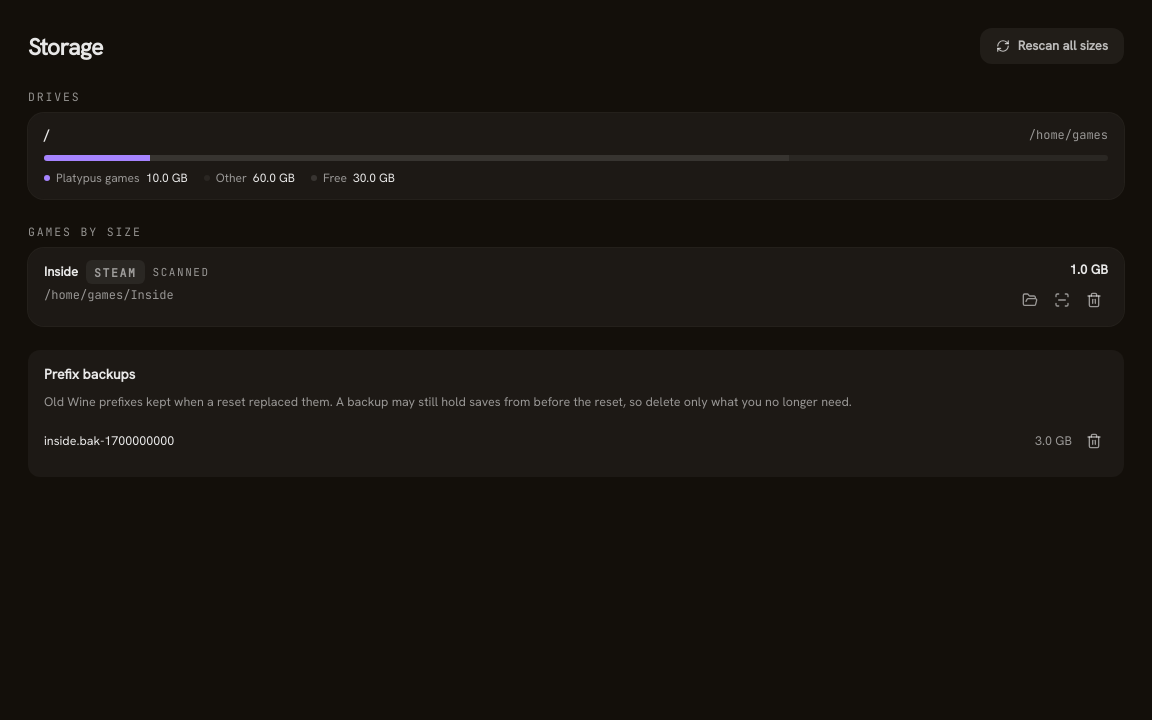
it: prefix backups in the classic Storage page › asks before deleting one, naming it and its size, and says a backup can hold saves
Expected: the heading "Prefix backups" is shown, [44,364,135,382]
Expected: the text "inside.bak-1700000000" is shown, [44,432,174,449]
# The trash only arms the confirm: nothing is deleted yet.
Step 1. Click the button named "Delete inside.bak-1700000000" → (1094, 441), box [1080,427,1108,455]
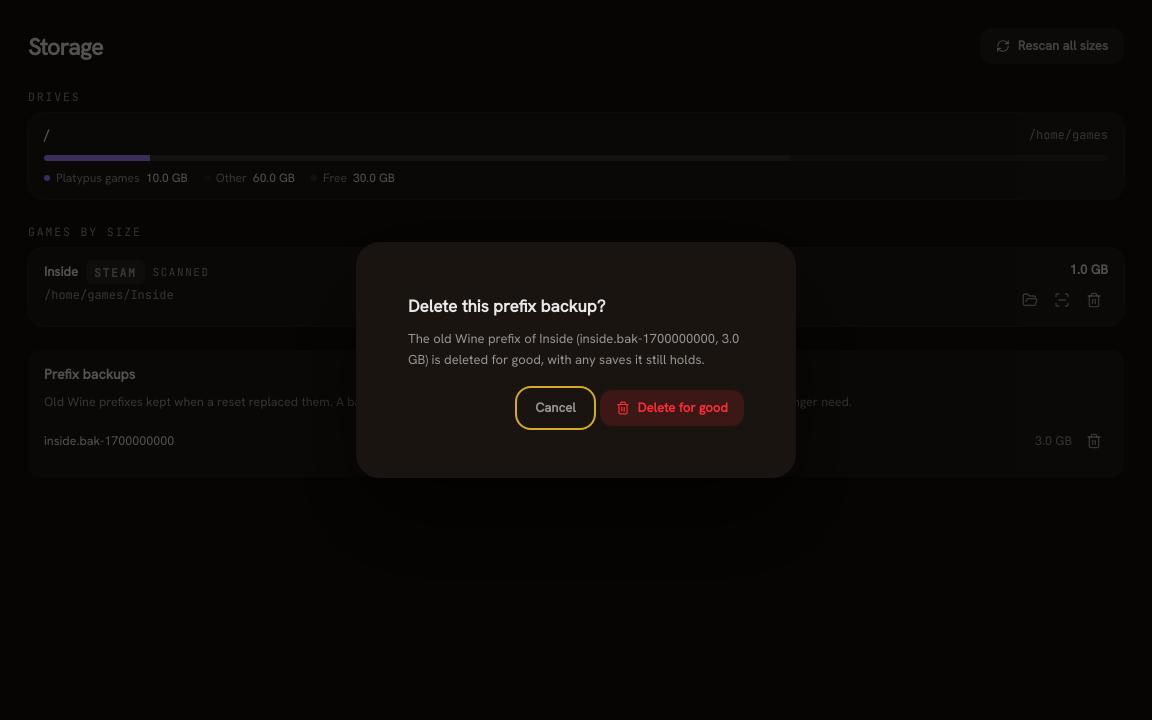
Result: the heading "Delete this prefix backup?" is shown at [408,295,606,317]
Result: the text "The old Wine prefix of Inside (inside.bak-1700000000, 3.0 GB) is deleted for good, with any saves it still holds." is shown at [408,330,739,368]
Step 2. Click the button "Delete for good" → (672, 408), box [600,390,744,426]
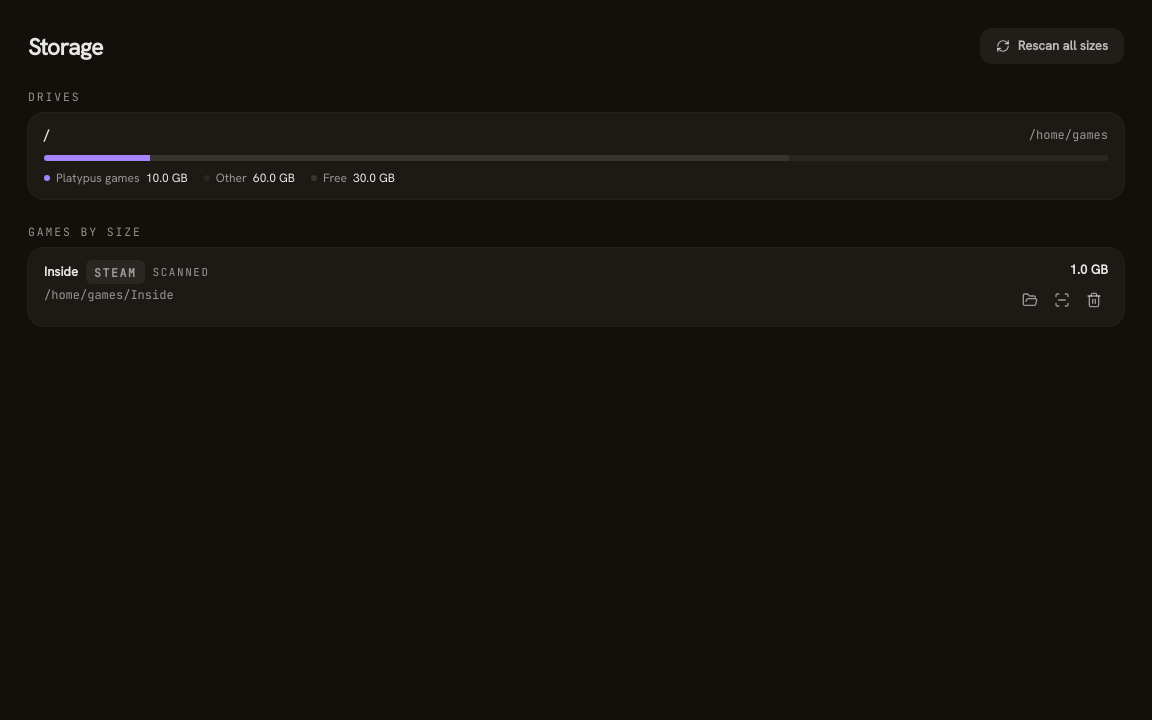
Result: the text "inside.bak-1700000000" is gone
